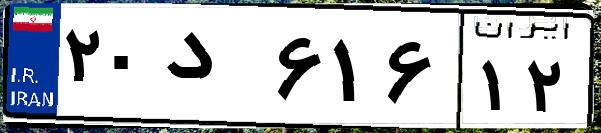0: (110, 28, 158, 98)
1: (330, 28, 385, 110), (475, 38, 525, 113)
2: (57, 26, 110, 100), (525, 38, 570, 115)
6: (270, 28, 330, 110), (385, 28, 445, 110)
د: (158, 20, 270, 120)
